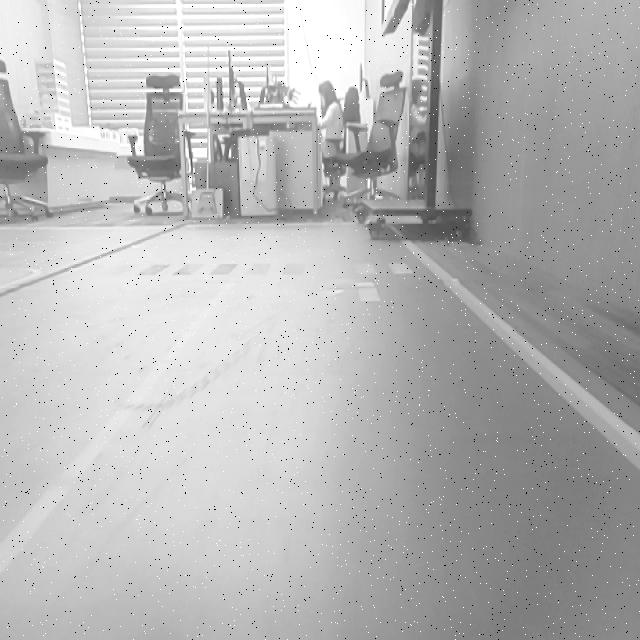left_lane: (0, 282, 231, 578)
right_lane: (390, 224, 640, 474)
